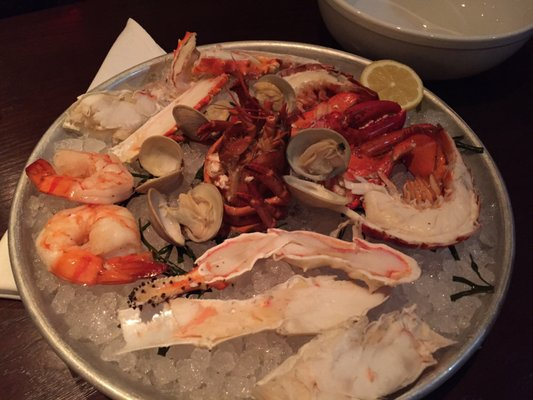sushi: (316, 0, 533, 82)
taco: (360, 60, 424, 112)
